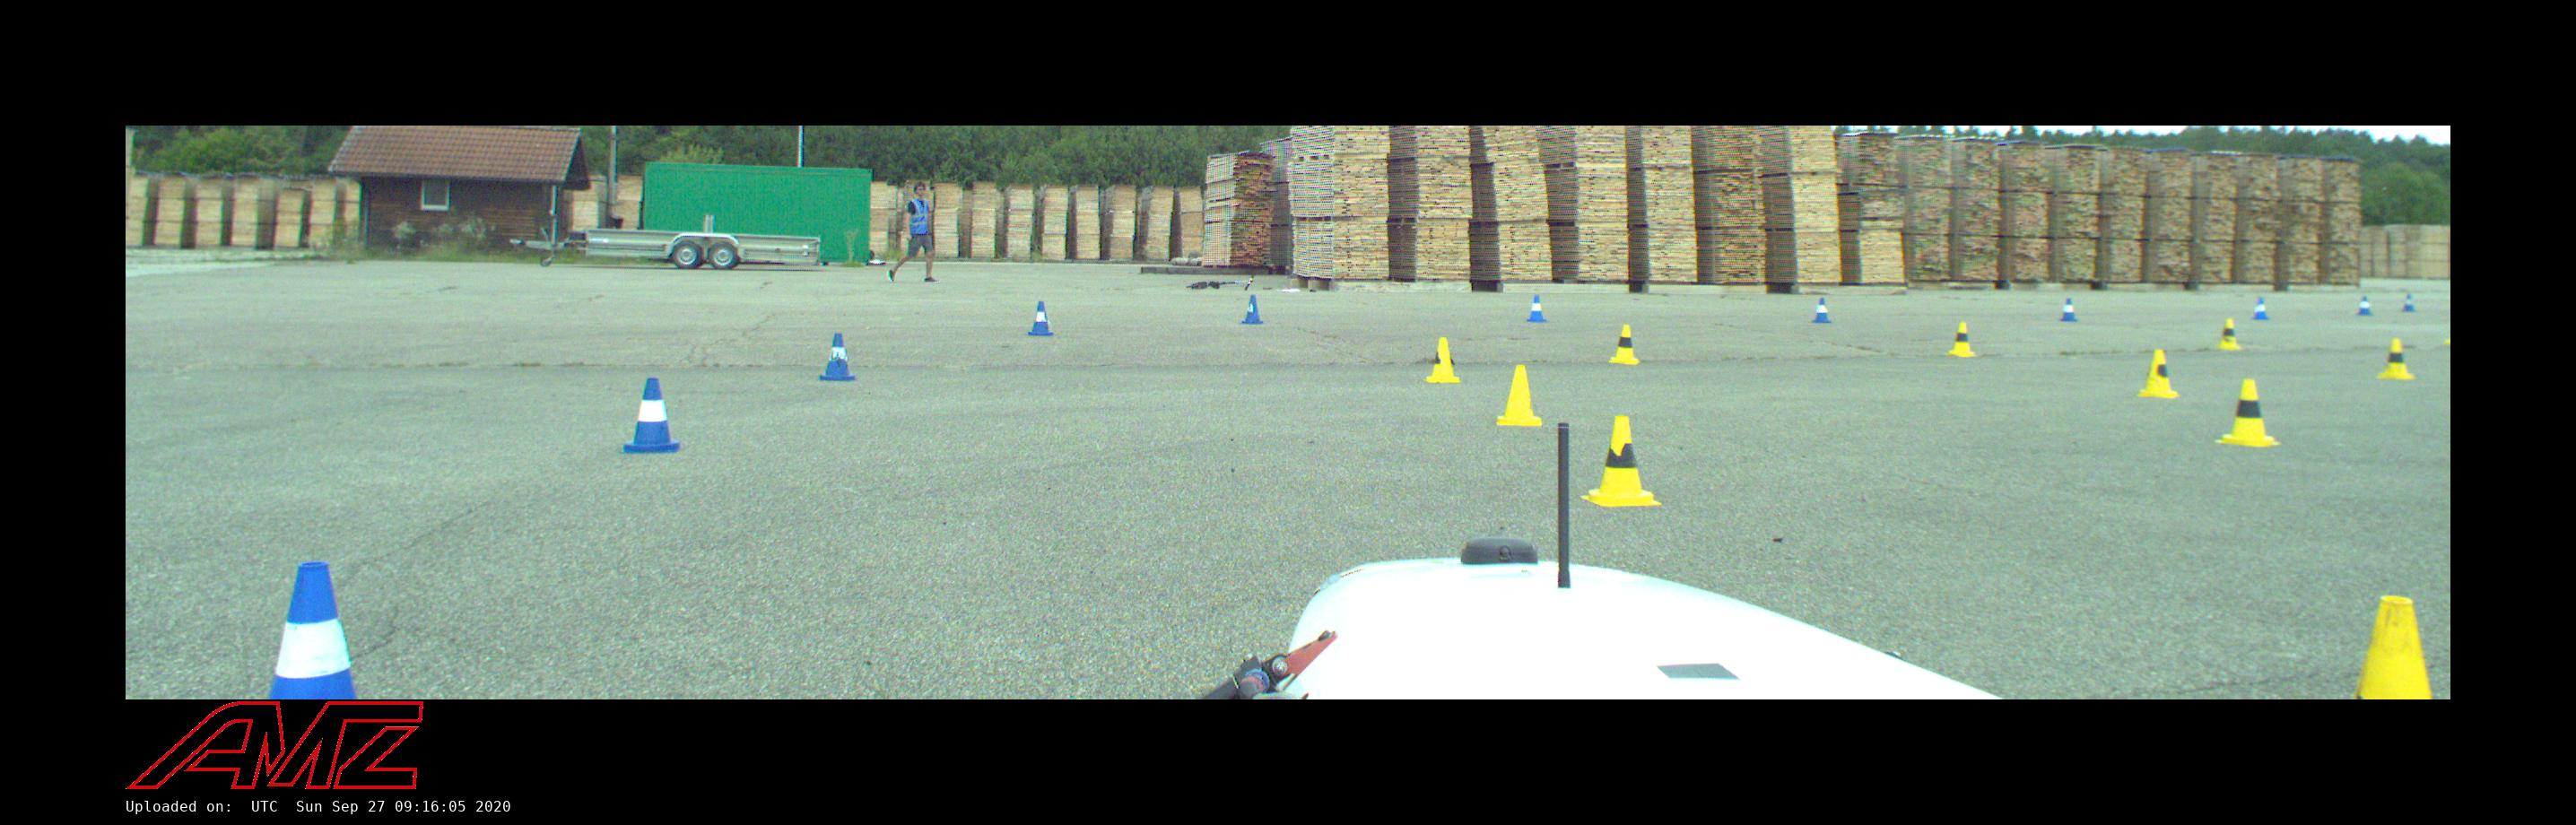blue_cone: (269, 564, 356, 700), (621, 378, 680, 454), (820, 334, 856, 381), (1028, 301, 1055, 335), (1242, 296, 1265, 324), (1526, 296, 1548, 322), (1812, 299, 1832, 322), (2252, 297, 2270, 319), (2060, 299, 2077, 320), (2357, 296, 2372, 316), (2402, 294, 2415, 311)
yellow_cone: (2354, 597, 2433, 700), (1582, 417, 1661, 506), (2216, 380, 2280, 447), (1497, 365, 1543, 426), (2139, 350, 2180, 398), (1423, 339, 1460, 383), (2377, 339, 2415, 378), (1608, 325, 1640, 365), (1947, 322, 1976, 357), (2218, 319, 2241, 348)
